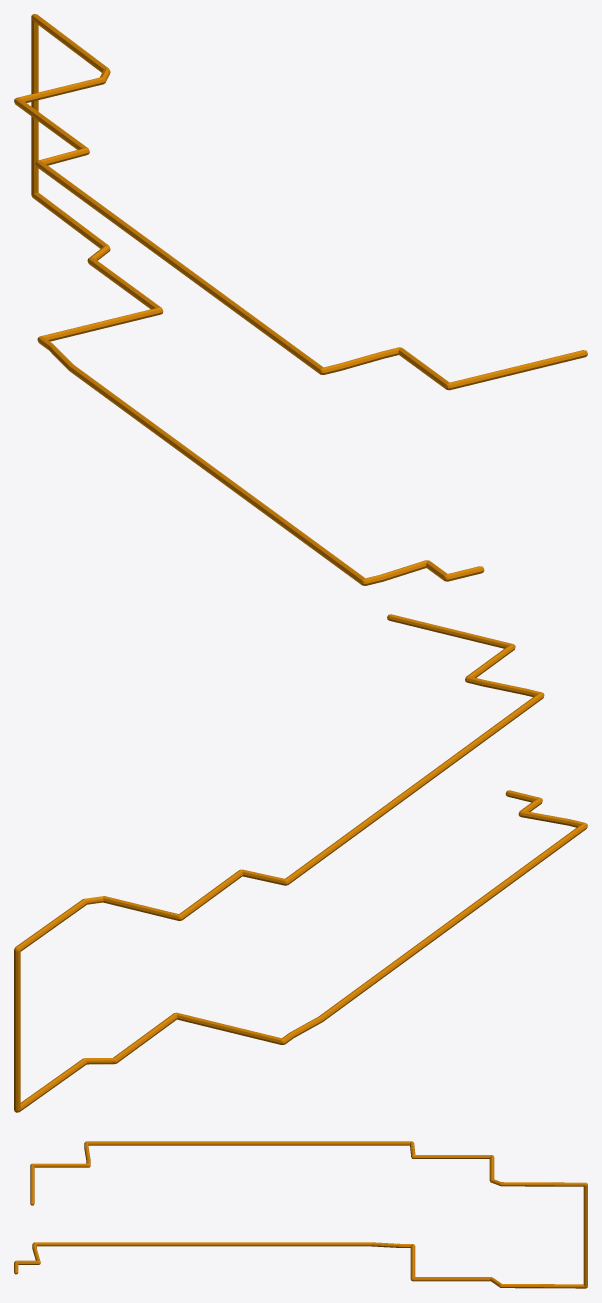
The picture shows the model from 3 angles, top to bottom: view 1: azimuth 30°, elevation 25°; view 2: azimuth 150°, elevation 25°; view 3: azimuth 270°, elevation 25°; orthographic projection. The views are drawn at different scales.
Bounding box in the file's own units: 663 × 520 × 2557.
